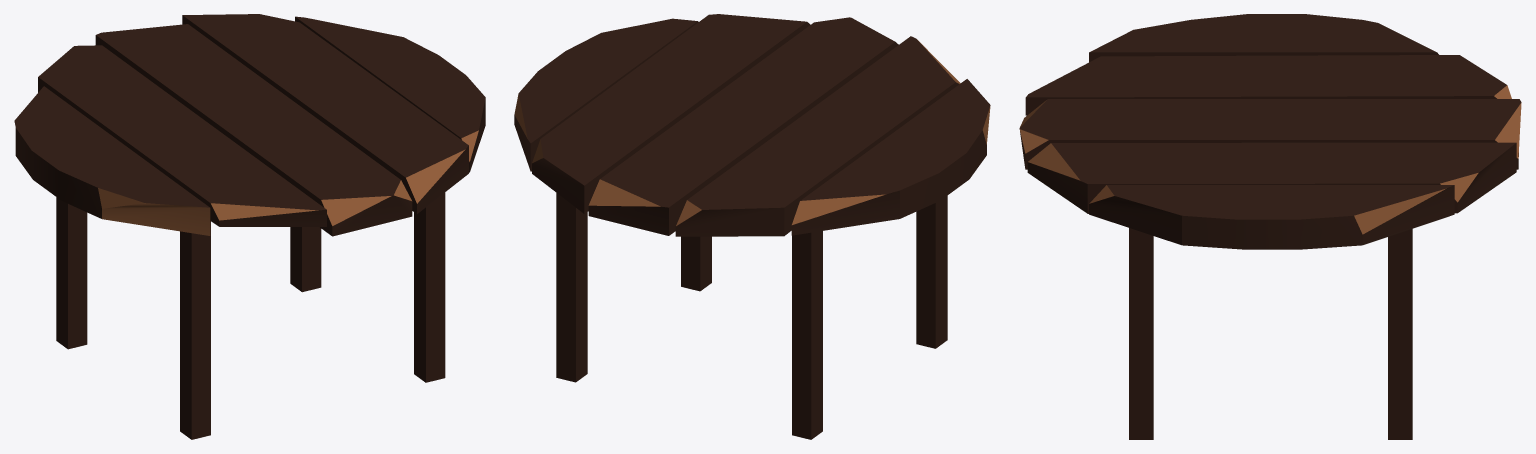
The model's file is SM_table_round_01.fbx.
The picture shows the model from 3 angles, left to right: view 1: azimuth 30°, elevation 25°; view 2: azimuth 150°, elevation 25°; view 3: azimuth 270°, elevation 25°; orthographic projection. The views are drawn at different scales.
Visible parts, largest first — view 1: Box011; view 2: Box011; view 3: Box011.
Part boxes in pixels (x1,y1,x2,y2): Box011: (14,14,485,439); Box011: (514,14,990,439); Box011: (1019,14,1521,439).
Bounding box in the file's own units: 44.96 × 26.26 × 46.35.
